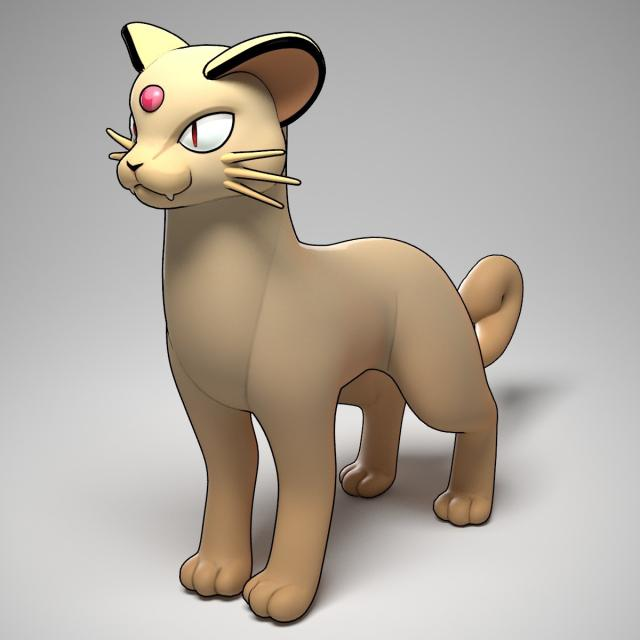Persian: (106, 23, 551, 640)
